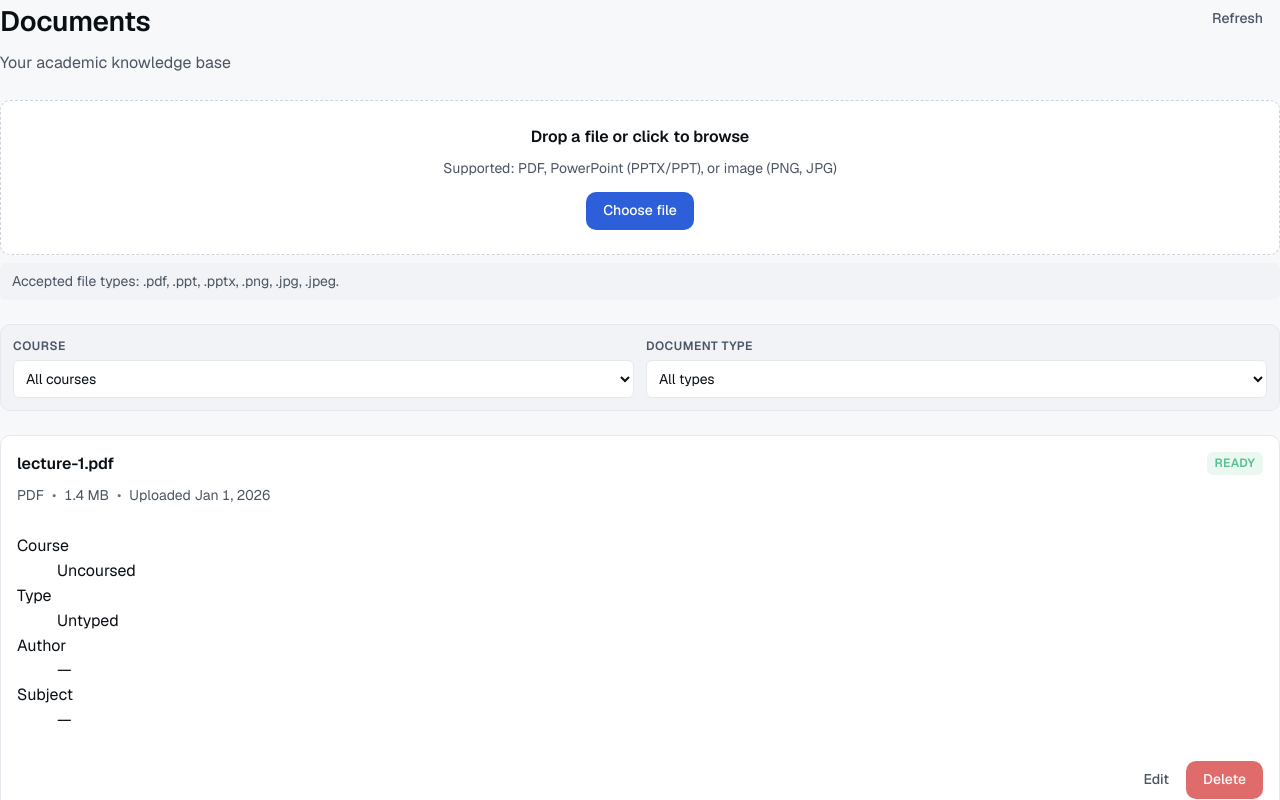
Scenario: DocumentsPanel › delete › opens the confirmation dialog when Delete is clicked and removes the doc after confirm
Click the button with test id "document-card-delete": (1224, 780) [1186, 761, 1263, 799]
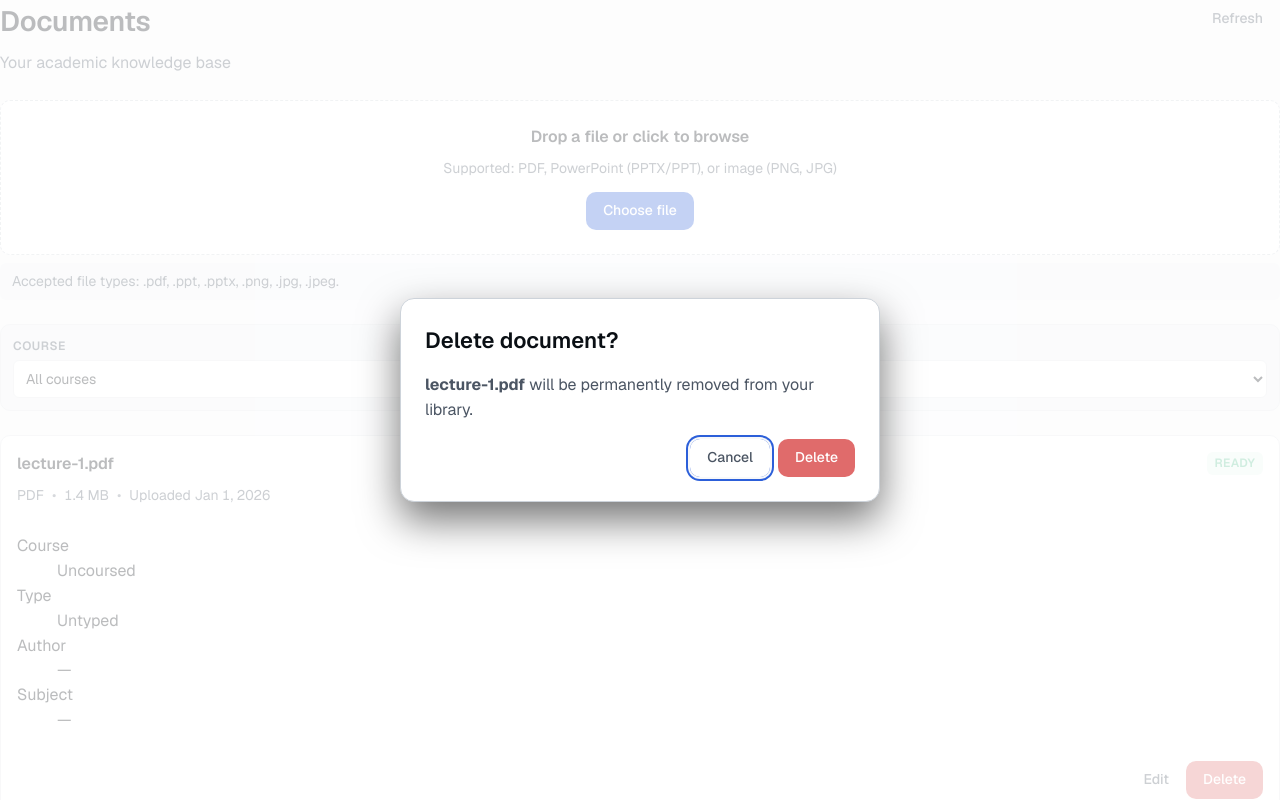
Now the dialog with test id "delete-confirm-dialog" is shown, box [400, 298, 880, 502]
Now the dialog with test id "delete-confirm-dialog" shows "lecture-1.pdf", box [425, 374, 525, 395]
Click the button with test id "delete-confirm-confirm": (816, 458) [778, 439, 855, 477]
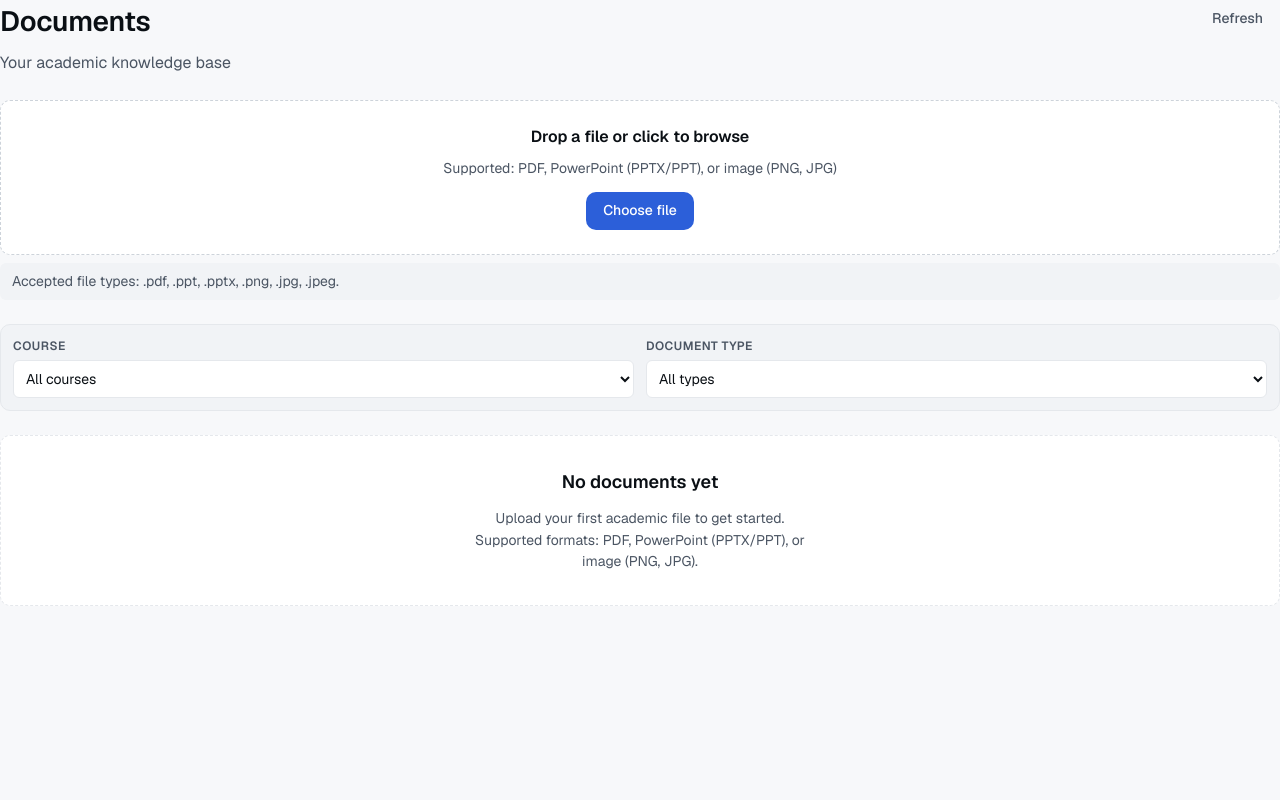
Now the dialog with test id "delete-confirm-dialog" is gone
Now the element with test id "documents-empty-state" is shown, box [0, 435, 1279, 606]
